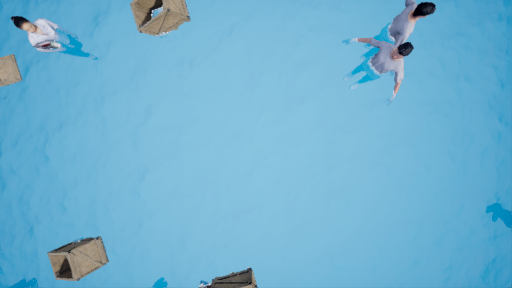person: (342, 33, 419, 104), (9, 14, 103, 69)
